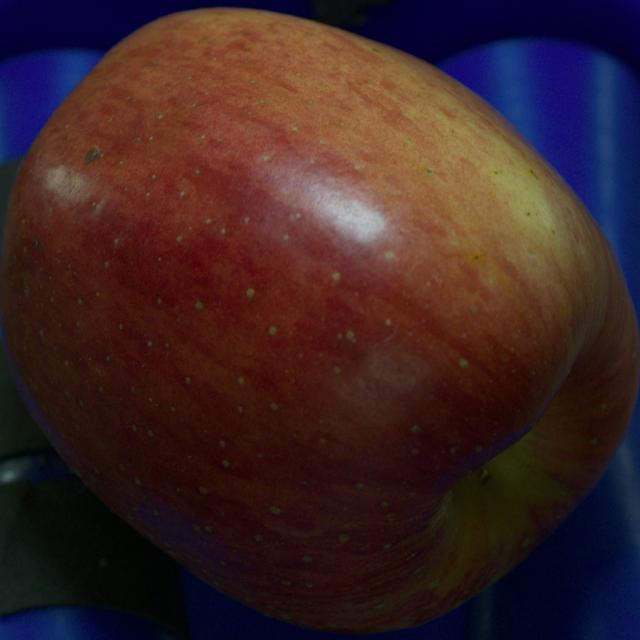apple: (0, 9, 639, 632)
pest: (85, 148, 99, 162)
